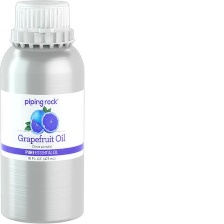bottle: (0, 0, 89, 224)
